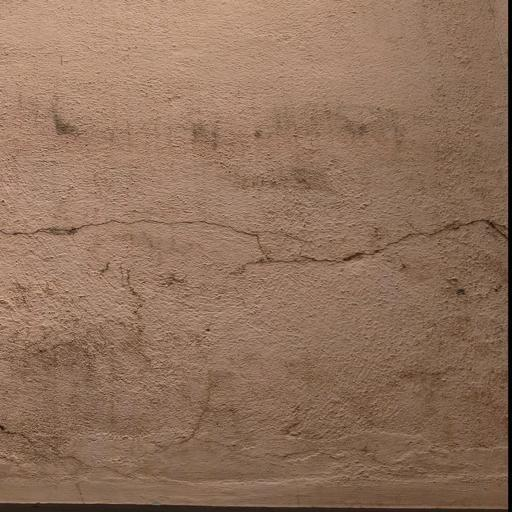minor_crack: (0, 169, 512, 286)
